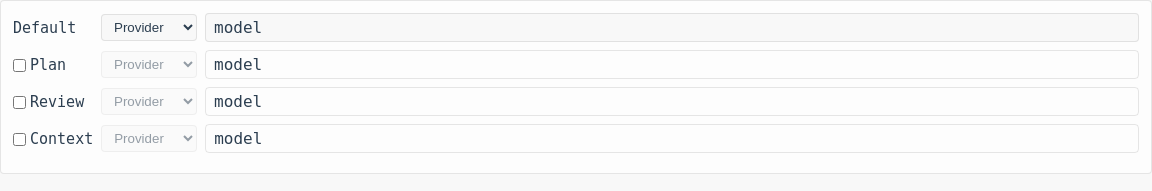
Test: LlmConfigEditor › enables use case inputs when checkbox is checked
The image size is (1152, 191).
Expected: the dropdown next to "Plan" is disabled, [101, 51, 197, 78]
Expected: the dropdown with class "model-input-inner" next to "Plan" is disabled, [205, 50, 1139, 79]
Click the checkbox labelled "Plan": (20, 65) [13, 58, 26, 72]
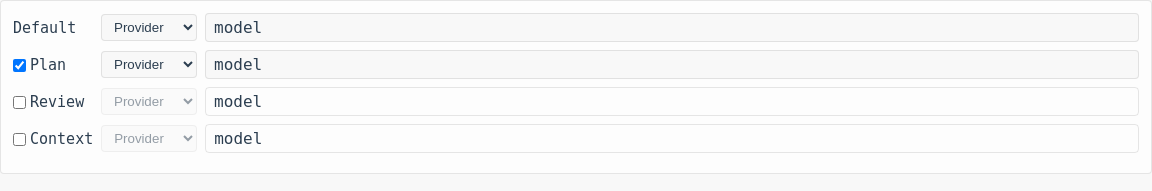
Expected: the dropdown with class "model-input-inner" next to "Plan" is enabled, [205, 50, 1139, 79]
Expected: the dropdown next to "Plan" is enabled, [101, 51, 197, 78]
